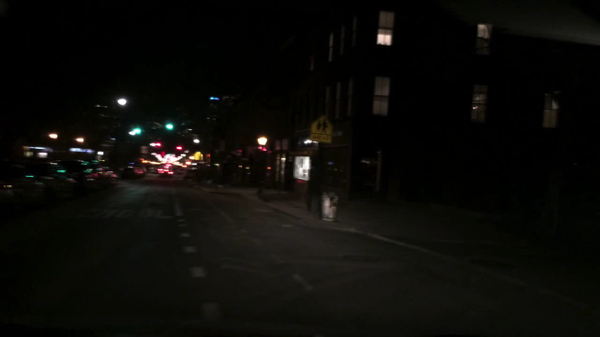car: (0, 162, 53, 215), (34, 160, 86, 206), (55, 158, 101, 198), (93, 161, 120, 189), (122, 163, 149, 180), (156, 163, 176, 177), (184, 166, 200, 176), (147, 167, 156, 175), (176, 168, 185, 176)
traffic light: (133, 128, 145, 138), (164, 124, 175, 132), (176, 145, 184, 152), (156, 141, 162, 149)
traffic sign: (309, 117, 335, 146), (194, 152, 205, 161)
